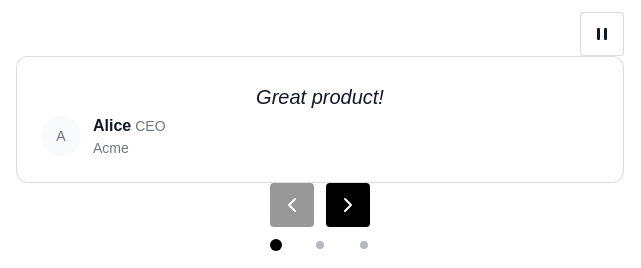
Test: Carousel › autoPlay prop › toggles playing state when the play/pause button is clicked
The width and height of the screenshot is (641, 268).
Click the button named "pause slideshow" at (602,34), box [580,12,624,56]
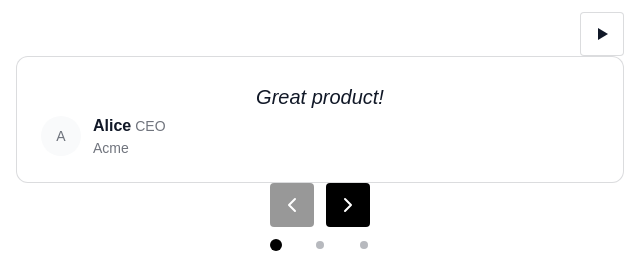
Result: the button named "play slideshow" is shown at [580,12,624,56]
